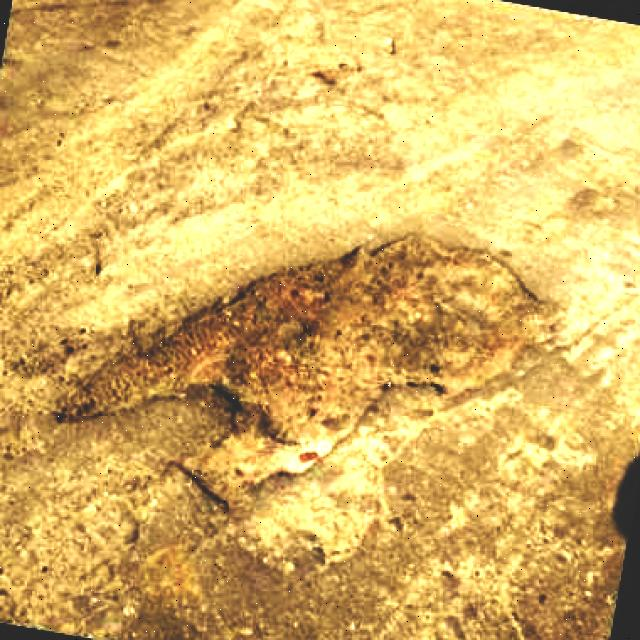pothole: (44, 226, 561, 561)
